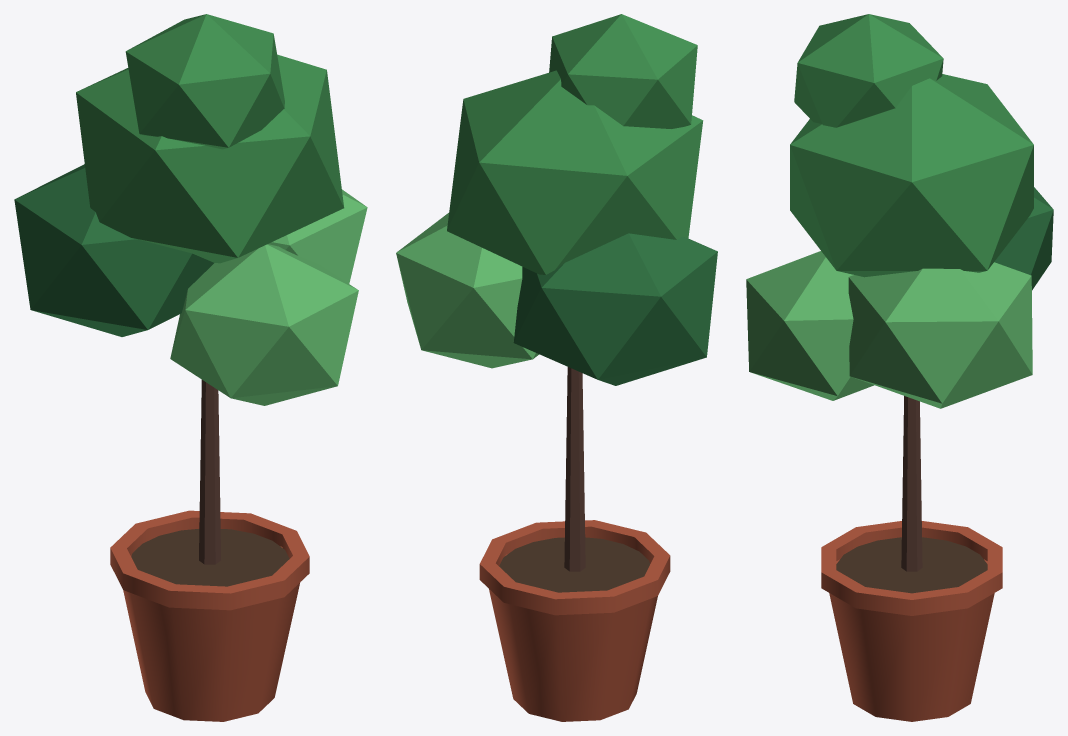
The model's file is plant_large.glb.
3 renders of one model, left to right at view 1: azimuth 30°, elevation 25°; view 2: azimuth 150°, elevation 25°; view 3: azimuth 270°, elevation 25°, orthographic. The views are drawn at different scales.
Visible parts, largest first — view 1: plant_large; view 2: plant_large; view 3: plant_large.
Part boxes in pixels (bbox=[...]): plant_large: bbox=[14, 14, 367, 721]; plant_large: bbox=[396, 14, 717, 721]; plant_large: bbox=[746, 14, 1053, 721].
Bounding box in the file's own units: 0.7916 × 1.67 × 0.6963.
